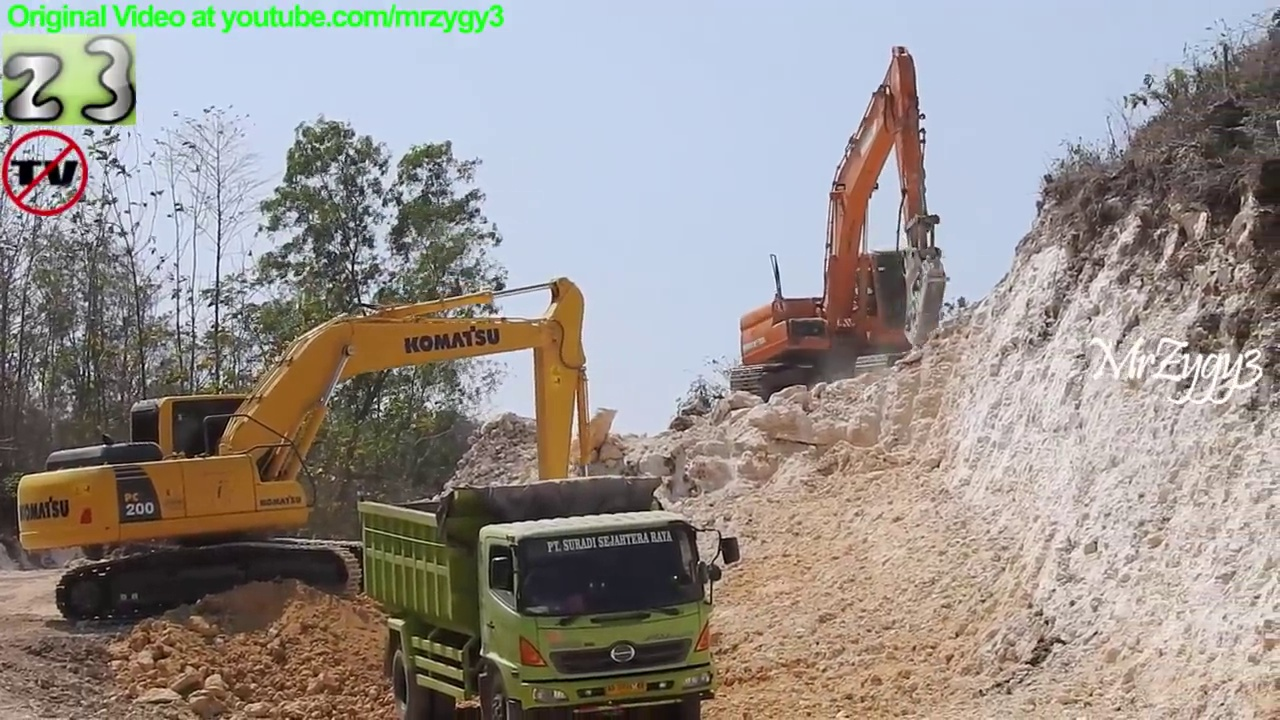excavator: (10, 272, 661, 634), (722, 40, 958, 409)
truck: (355, 469, 740, 720)
